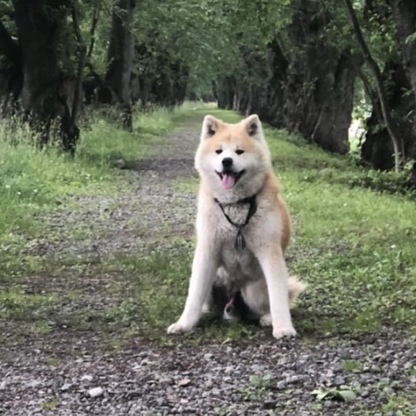akita: (160, 109, 318, 345)
